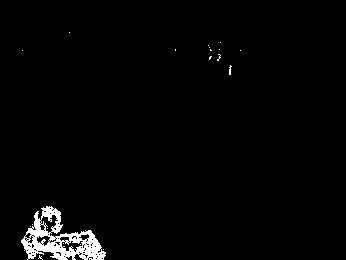person: (25, 204, 70, 260)
